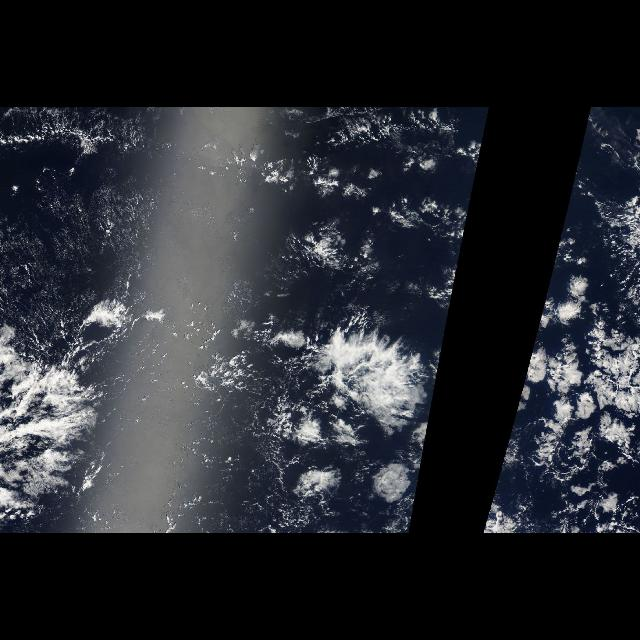Fish: (2, 298, 134, 507)
Flower: (227, 280, 455, 508), (488, 194, 638, 532), (172, 145, 482, 221)
Sugar: (9, 169, 159, 291)
